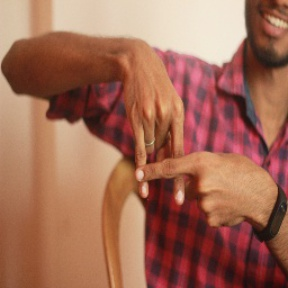H: (117, 102, 218, 207)
